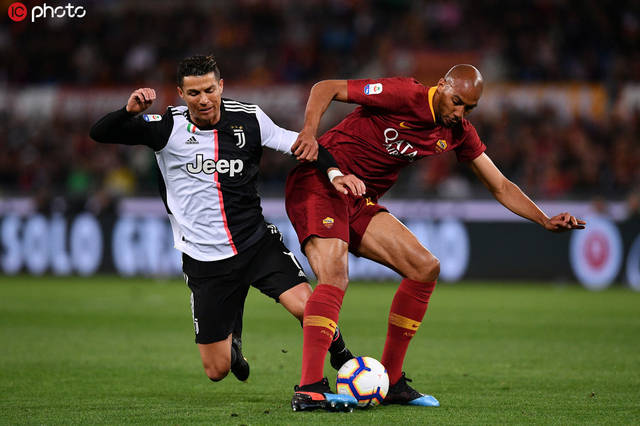ball: (335, 355, 391, 411)
